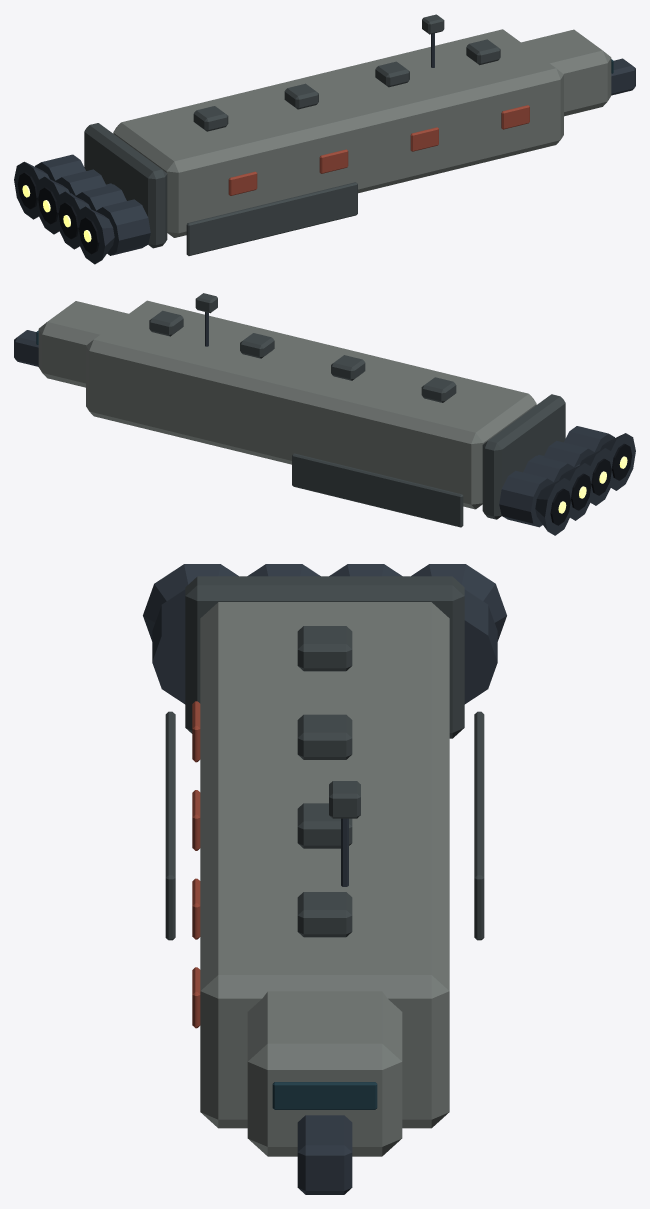
Rendered from public-reason.glb.
3 renders of one model, top to bottom at view 1: azimuth 30°, elevation 25°; view 2: azimuth 150°, elevation 25°; view 3: azimuth 270°, elevation 25°, orthographic. The views are drawn at different scales.
Visible parts, largest first — view 1: armored mission hull, shuttered radiator, reactor shield, forward command, engine jacket, engine bell, engine jacket.001, engine jacket.003, engine jacket.002, structural spine, engine bell.003, engine bell.001 (+14 smaller); view 2: armored mission hull, shuttered radiator.001, reactor shield, forward command, engine jacket.003, engine bell.003, engine jacket, engine jacket.002, engine jacket.001, structural spine, engine bell.002, dorsal mount (+10 smaller); view 3: armored mission hull, forward command, reactor shield, structural spine, engine jacket, engine jacket.003, bridge glazing, shuttered radiator, shuttered radiator.001, dorsal mount, dorsal mount.001, dorsal mount.003 (+4 smaller).
Boxes of the visible parts, x1,y1,x2,y2 form: armored mission hull: (113, 29, 563, 237); shuttered radiator: (186, 182, 357, 255); reactor shield: (84, 123, 167, 248); forward command: (521, 29, 611, 116); engine jacket: (96, 199, 150, 255); engine bell: (77, 206, 114, 264); engine jacket.001: (75, 184, 126, 211); engine jacket.003: (35, 154, 85, 181); engine jacket.002: (55, 169, 106, 196); structural spine: (69, 58, 635, 195); engine bell.003: (14, 161, 49, 219); engine bell.001: (56, 191, 90, 249); armored mission hull: (86, 300, 536, 509); shuttered radiator.001: (292, 453, 463, 527); reactor shield: (482, 394, 565, 519); forward command: (38, 301, 128, 387); engine jacket.003: (499, 470, 553, 527); engine bell.003: (535, 478, 569, 535); engine jacket: (564, 426, 614, 452); engine jacket.002: (523, 455, 573, 482); engine jacket.001: (543, 440, 594, 467); structural spine: (14, 330, 579, 467); engine bell.002: (559, 463, 593, 520); dorsal mount: (421, 377, 456, 402); armored mission hull: (200, 602, 449, 1128); forward command: (247, 991, 402, 1156); reactor shield: (185, 576, 464, 738); structural spine: (297, 1115, 352, 1194); engine jacket: (152, 589, 185, 704); engine jacket.003: (464, 589, 497, 704); bridge glazing: (272, 1082, 377, 1109); shuttered radiator: (165, 711, 175, 940); shuttered radiator.001: (474, 711, 484, 940); dorsal mount: (297, 626, 352, 671); dorsal mount.001: (297, 714, 352, 759); dorsal mount.003: (297, 892, 352, 937).
Bounding box in the file's own units: 13.32 × 3 × 3.66.
